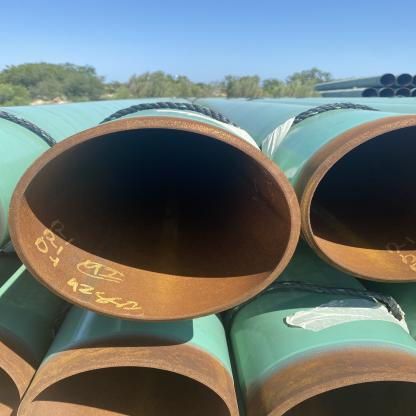clean: (264, 190, 302, 238)
